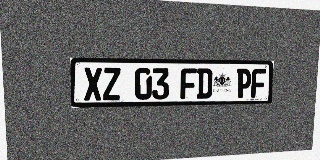0: (135, 68, 152, 100)
3: (152, 68, 169, 100)
D: (196, 68, 213, 99)
F: (180, 68, 197, 99), (251, 69, 266, 98)
P: (236, 69, 252, 98)
X: (83, 67, 102, 101)
Z: (103, 68, 121, 100)
